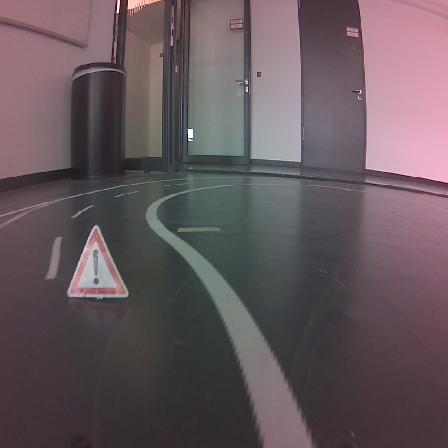ATTENTION: (67, 225, 128, 298)
